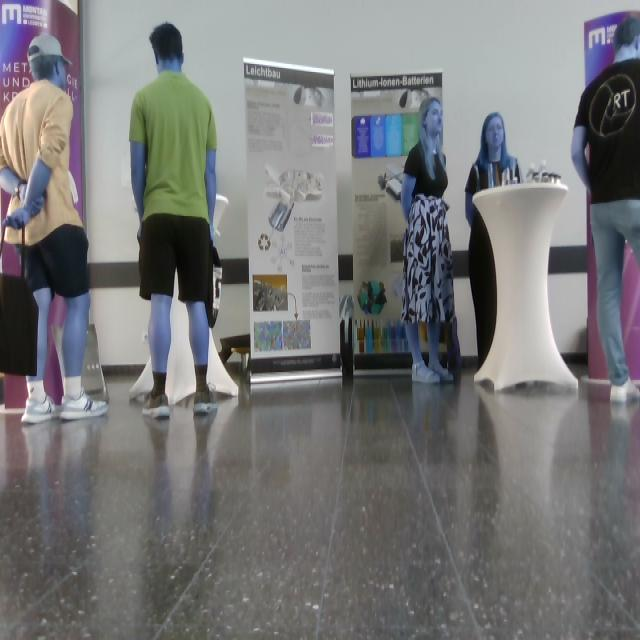light bulb: (264, 164, 323, 232), (378, 168, 404, 202), (526, 160, 561, 184), (269, 200, 295, 232), (212, 193, 229, 237), (294, 85, 324, 108), (399, 89, 430, 109)
person: (1, 34, 109, 425), (129, 21, 220, 420), (571, 17, 640, 404), (401, 97, 457, 385), (465, 112, 522, 372)
pillar: (472, 180, 579, 393)
tiled floor: (1, 361, 640, 640)
